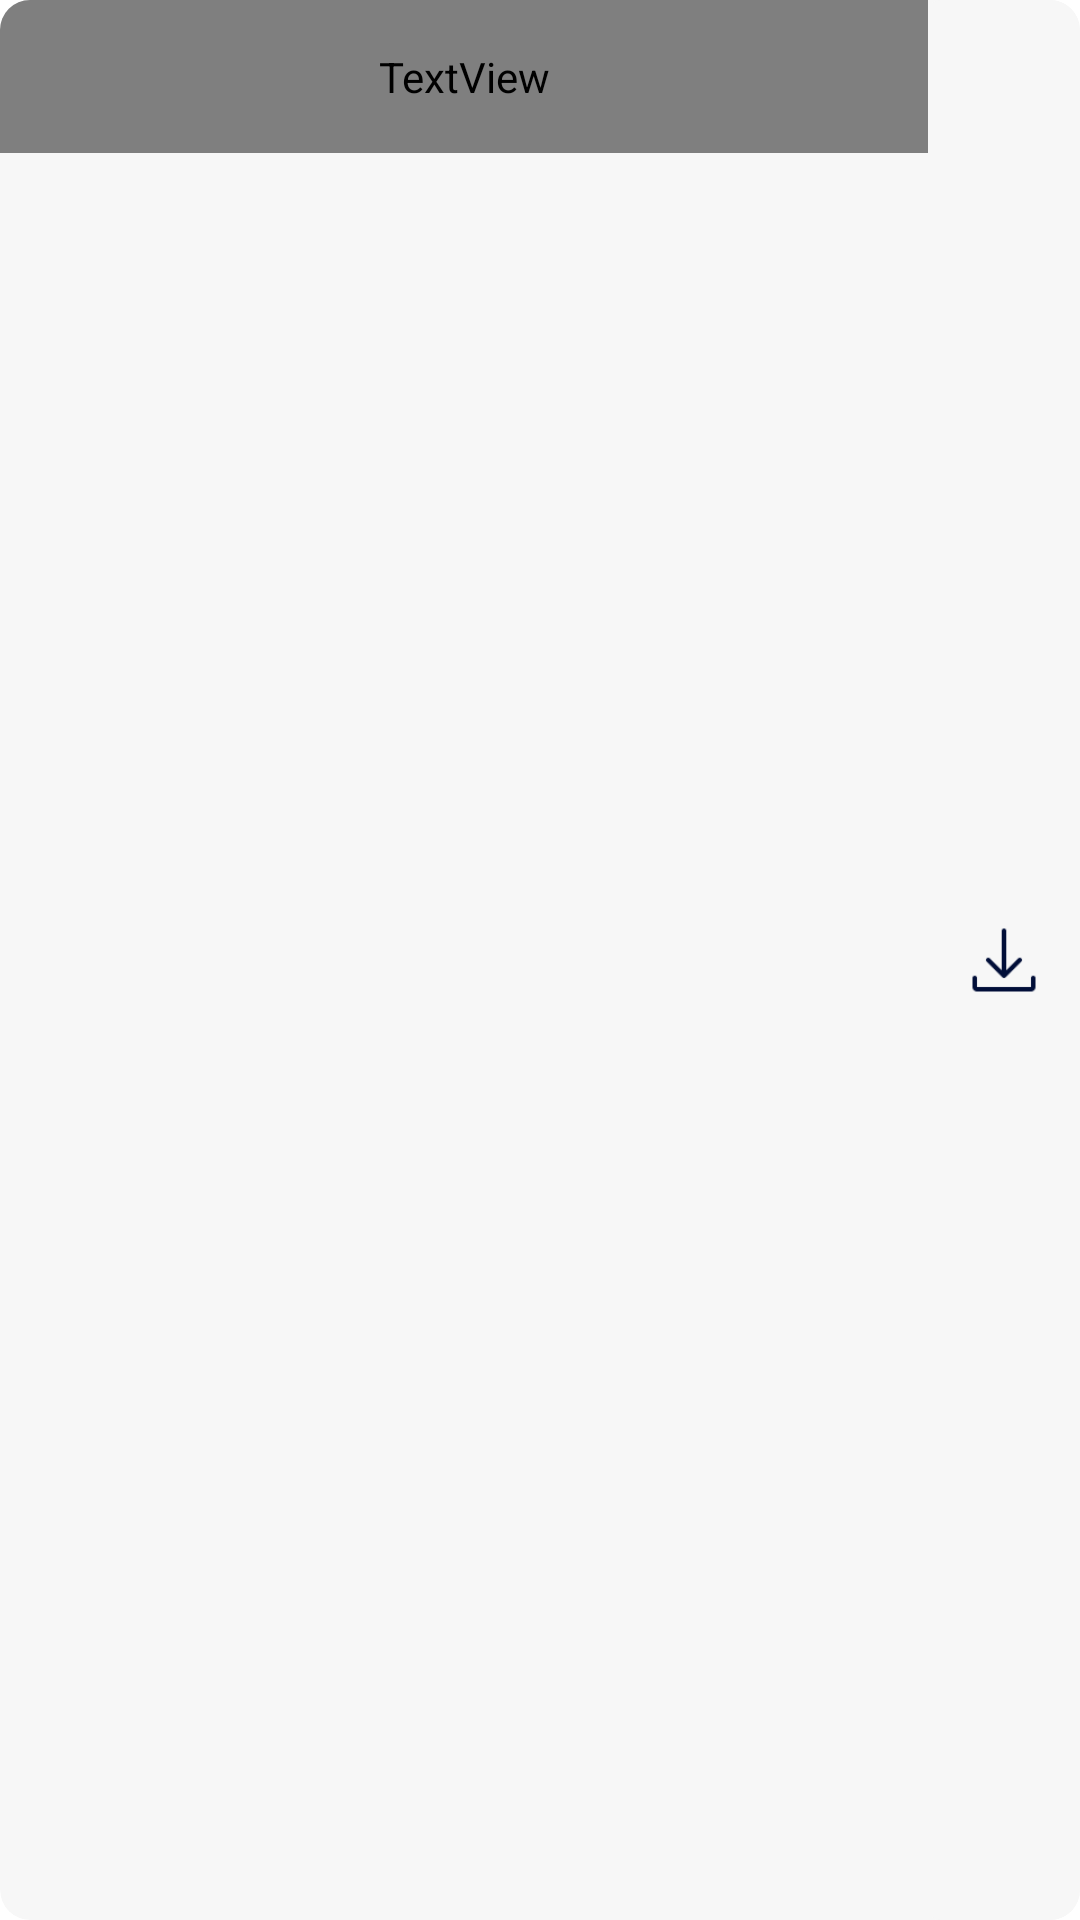

Named icons in this screenshot (1080 x 1920) and their centers, (x=x, y=y):
download: (x=1004, y=960)
